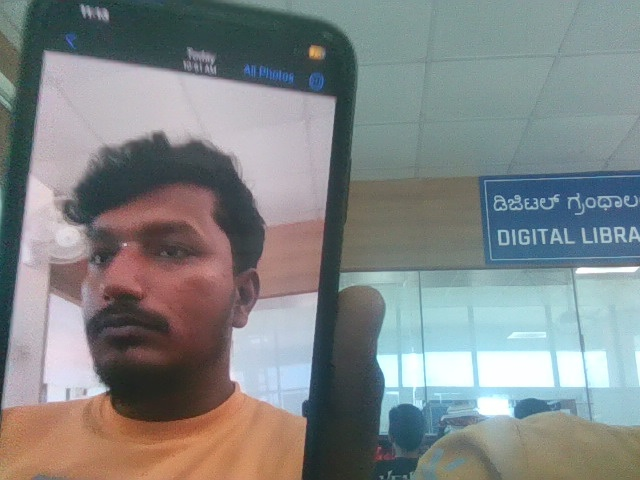fake: (56, 106, 268, 406)
